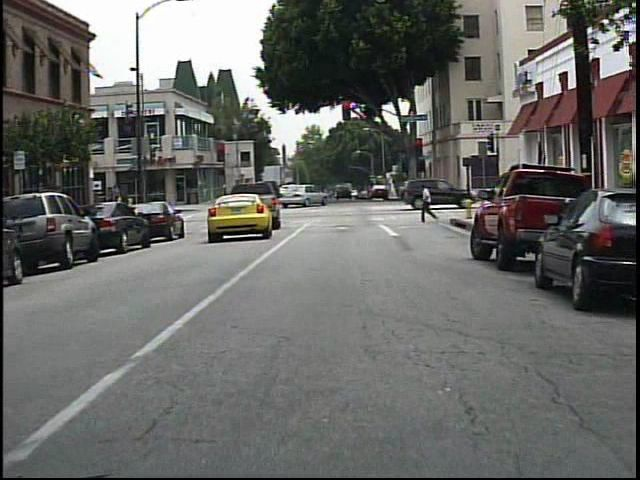person: (416, 180, 439, 224)
